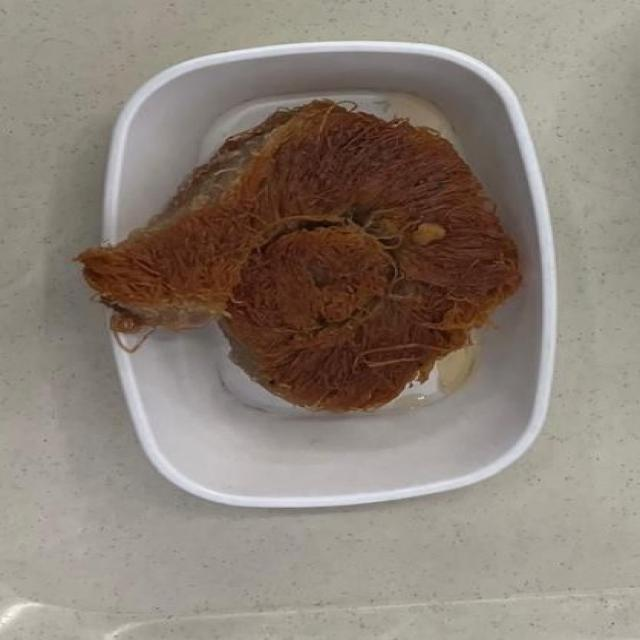yan_yemek: (75, 93, 525, 416)
